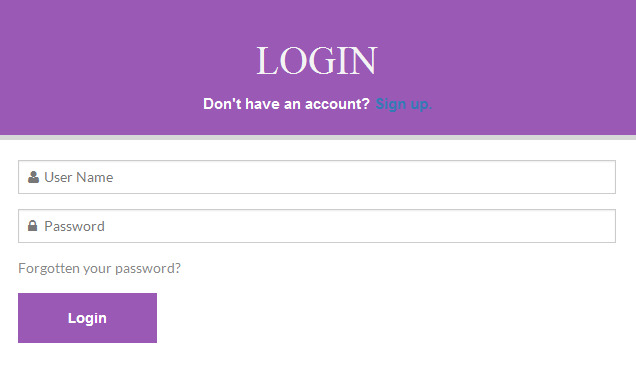button: (17, 292, 158, 344)
field: (17, 159, 617, 195), (17, 208, 617, 244)
